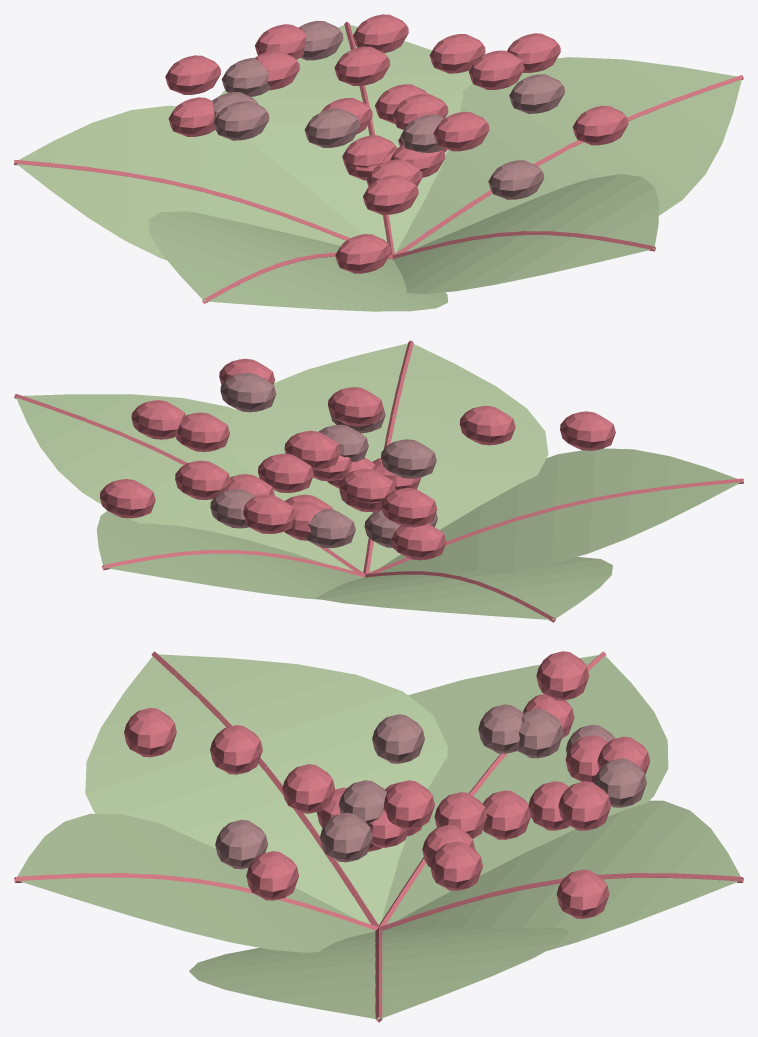
The model's file is cochineal.glb.
3 views of the same model, one above another, from view 1: azimuth 30°, elevation 25°; view 2: azimuth 150°, elevation 25°; view 3: azimuth 270°, elevation 25° (orthographic). The views are drawn at different scales.
Visible parts, largest first — view 1: cochineal; view 2: cochineal; view 3: cochineal.
Part boxes in pixels (left/top/right/bottom): cochineal: left=14, top=14, right=743, bottom=311; cochineal: left=14, top=340, right=743, bottom=622; cochineal: left=14, top=651, right=743, bottom=1022.
Bounding box in the file's own units: 1.18 × 0.3114 × 0.9926.
